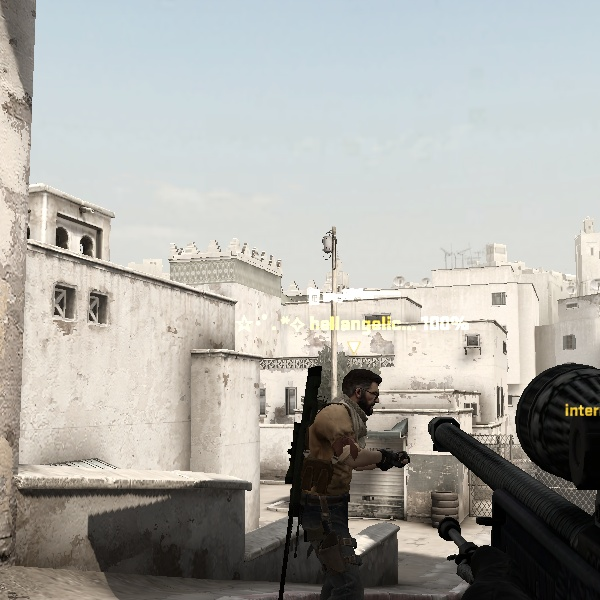t_body: (248, 358, 428, 596)
t_head: (332, 358, 391, 419)
